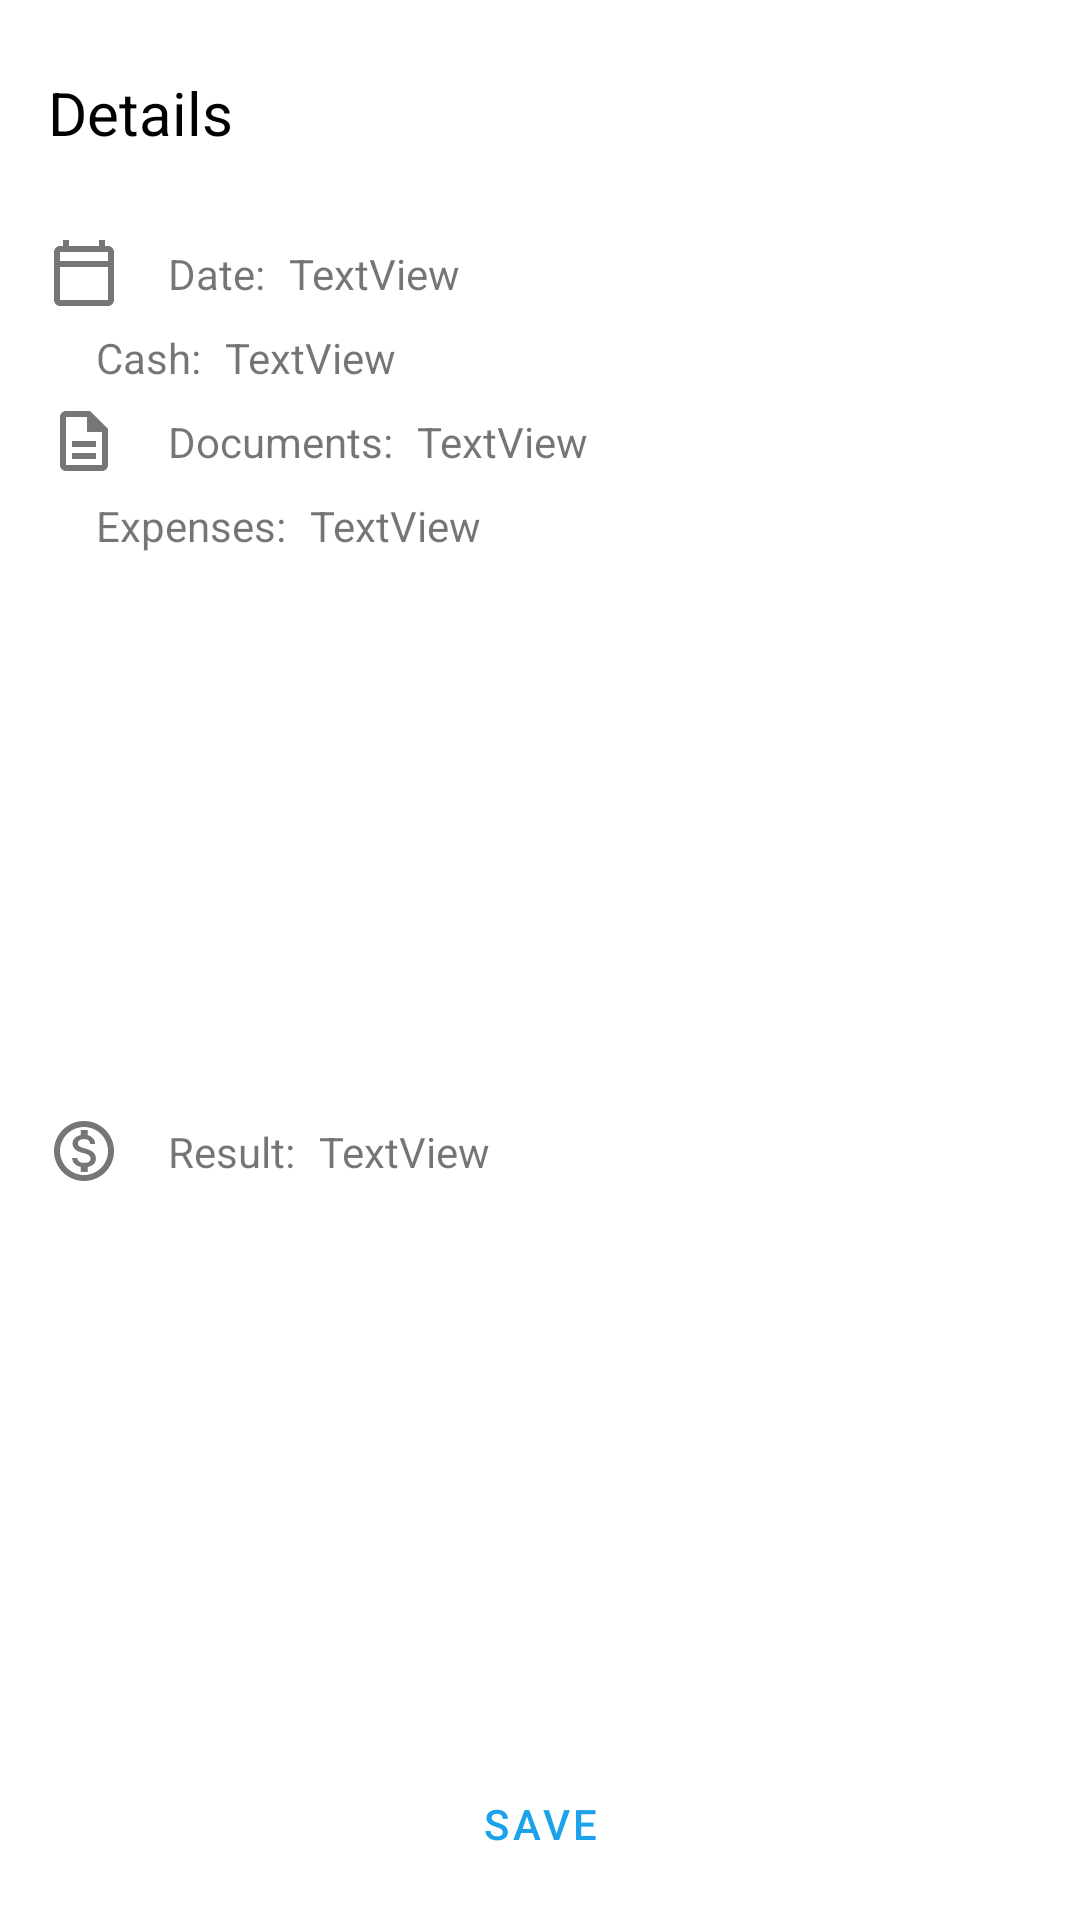

Where icons sit on this 1080w x 1920h app screen, as box=[x1, y1, x2, y2]:
calendar: box=[54, 240, 114, 306]
description: box=[60, 411, 108, 471]
monetization on: box=[54, 1121, 114, 1181]
